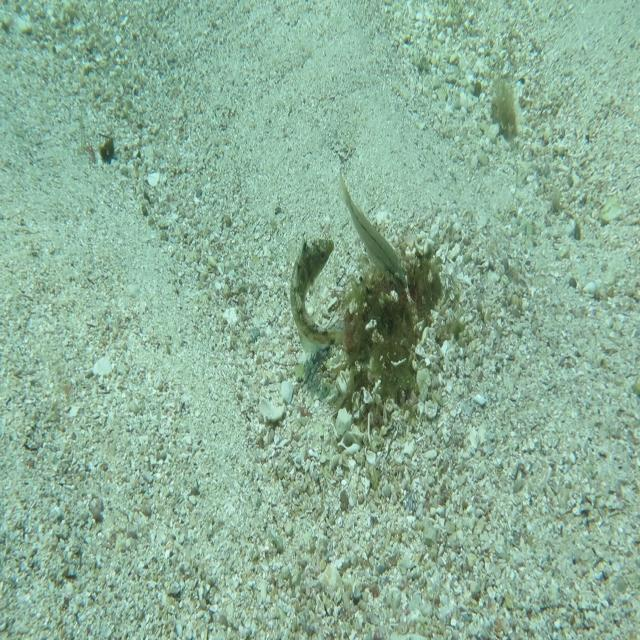BEND: (289, 234, 356, 357)
female: (338, 171, 410, 291)
nest: (324, 228, 454, 432)
